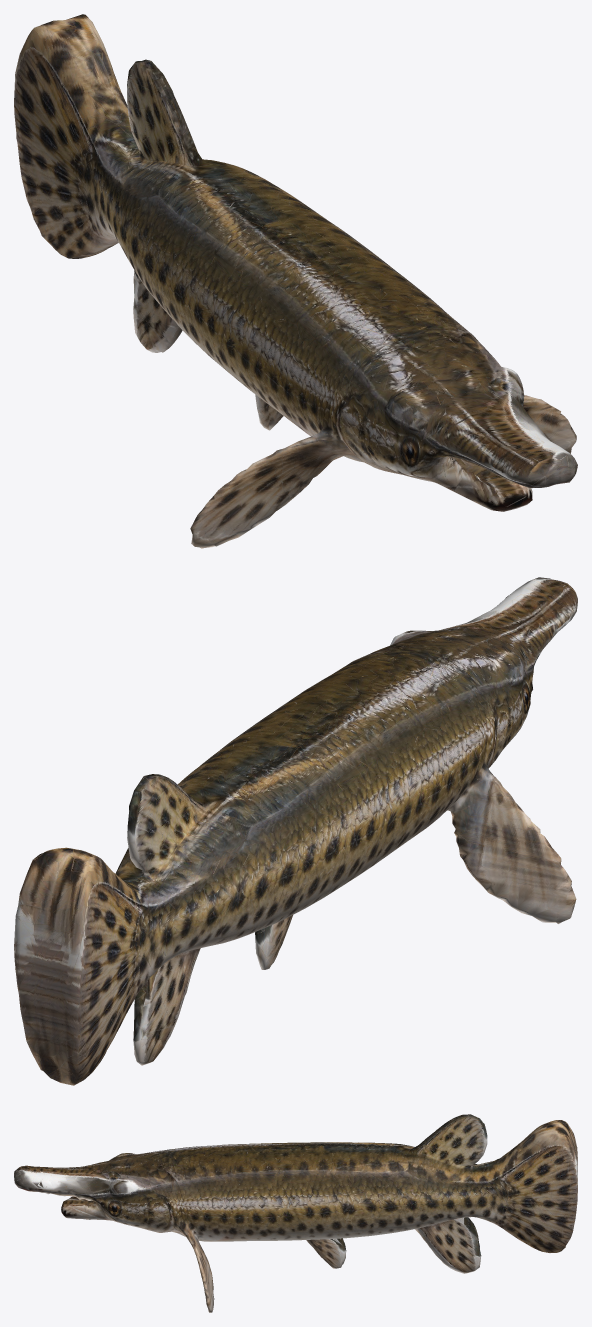
The model's file is fish_spgar.glb.
3 renders of one model, top to bottom at view 1: azimuth 30°, elevation 25°; view 2: azimuth 150°, elevation 25°; view 3: azimuth 270°, elevation 25°, orthographic. The views are drawn at different scales.
Visible parts, largest first — view 1: geometry_0; view 2: geometry_0; view 3: geometry_0.
Boxes of the visible parts, bbox=[...] form: geometry_0: bbox=[14, 14, 577, 548]; geometry_0: bbox=[14, 577, 577, 1085]; geometry_0: bbox=[14, 1114, 577, 1312].
Bounding box in the file's own units: 0.8532 × 0.6089 × 1.96.
1 material, 1 textured.
